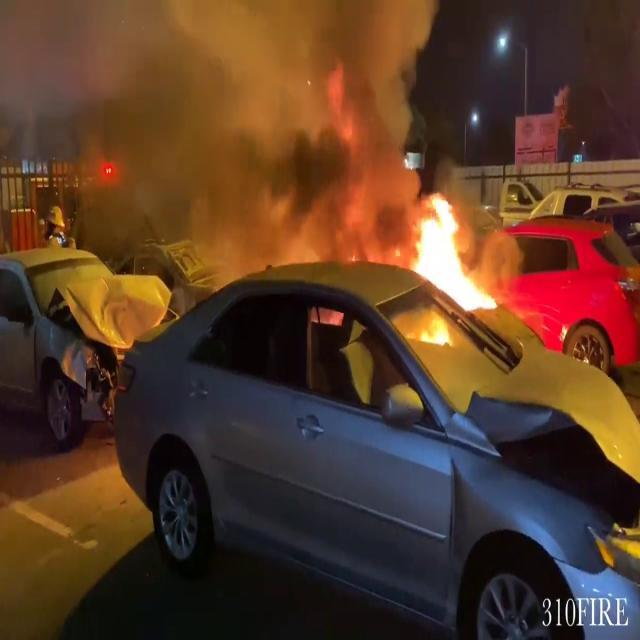Fire: (404, 184, 498, 320)
Smoke: (1, 0, 441, 258)
